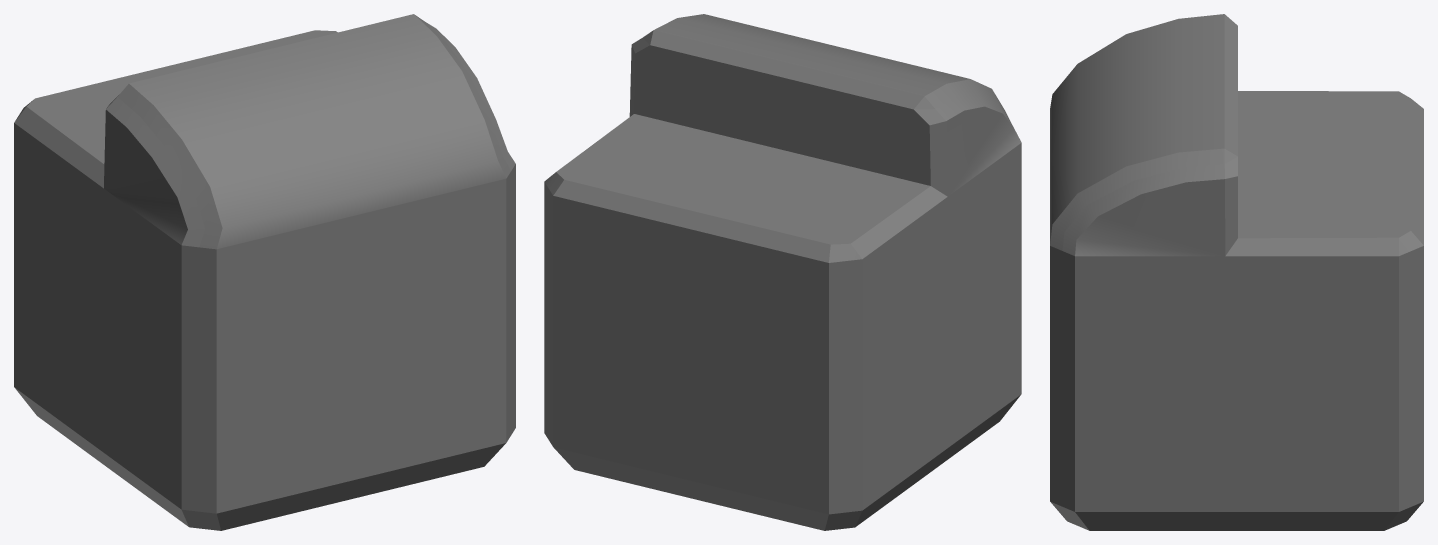
File: lowarm.obj
3 renders of one model, left to right at view 1: azimuth 30°, elevation 25°; view 2: azimuth 150°, elevation 25°; view 3: azimuth 270°, elevation 25°, orthographic. The views are drawn at different scales.
Parts seen in each view (by area): view 1: Rig1; view 2: Rig1; view 3: Rig1.
Part boxes in pixels (x1,y1,x2,y2): Rig1: [14, 14, 515, 530]; Rig1: [544, 14, 1021, 530]; Rig1: [1050, 14, 1423, 530].
Bounding box in the file's own units: 1 × 1.12 × 1.
1 material, 1 textured.
